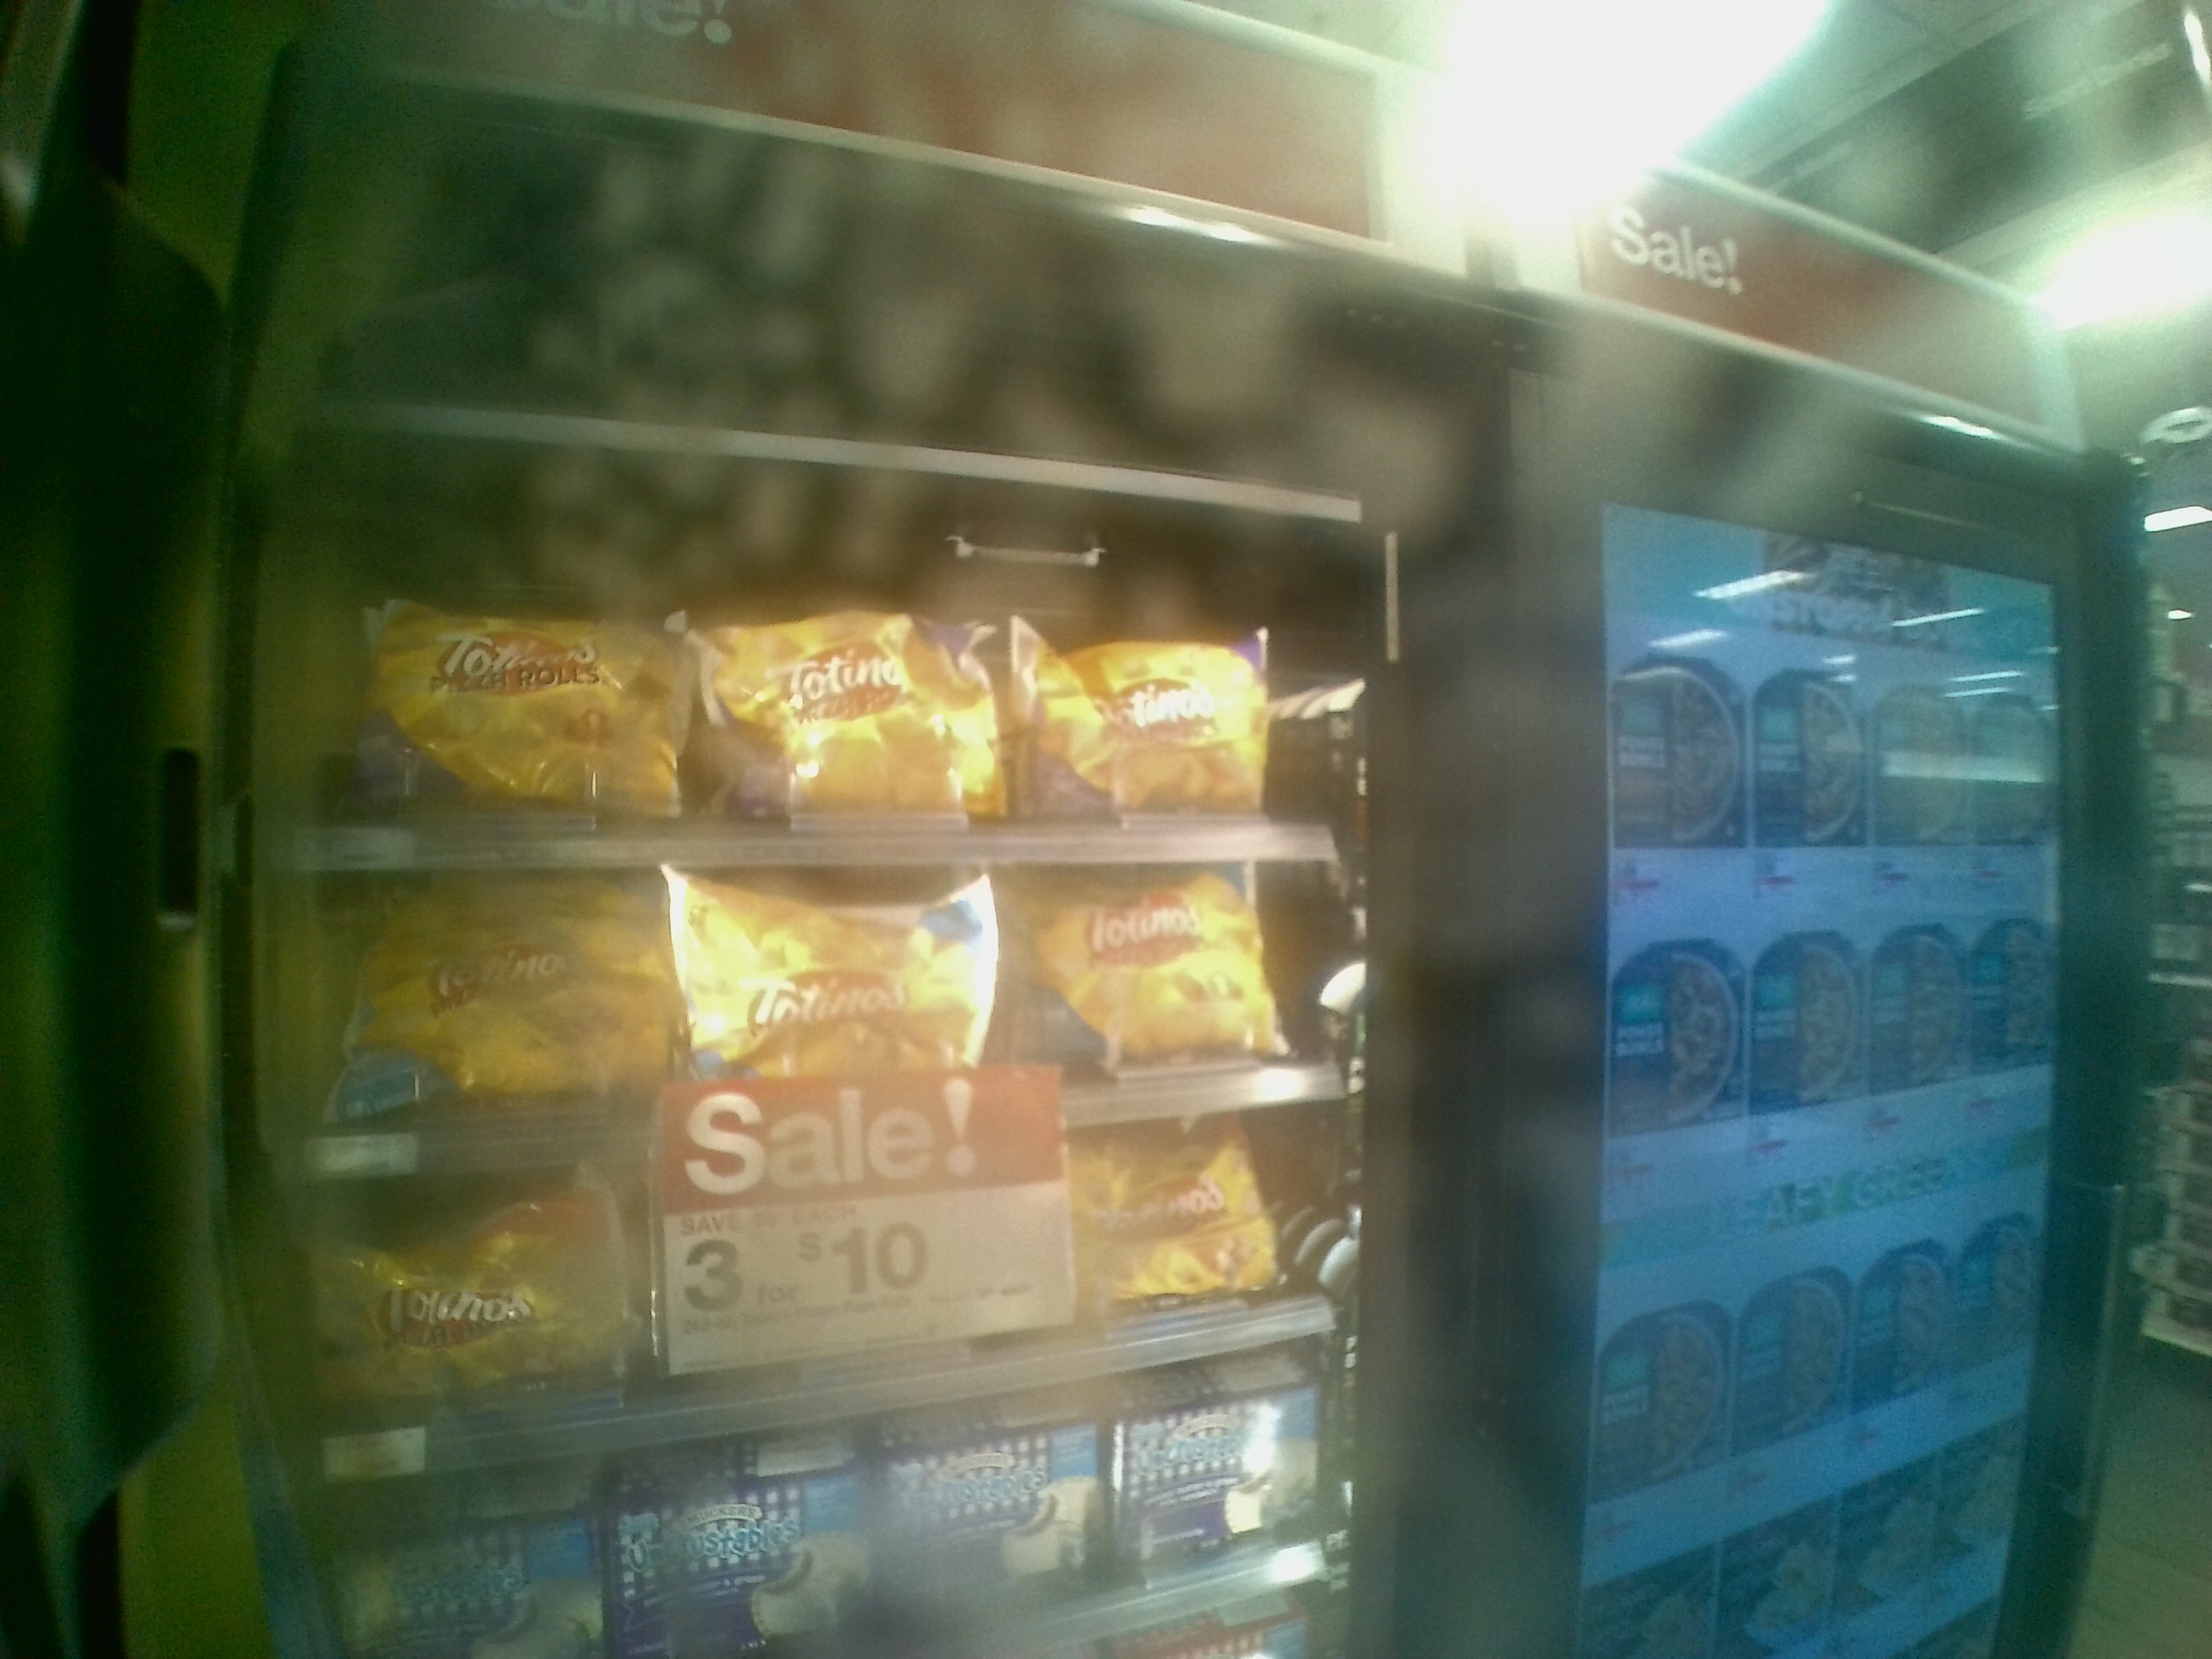shelf: (298, 467, 1336, 850), (296, 864, 1336, 1100), (298, 1133, 1331, 1361)
